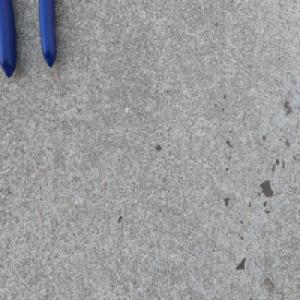Pliers: (0, 0, 58, 78)
